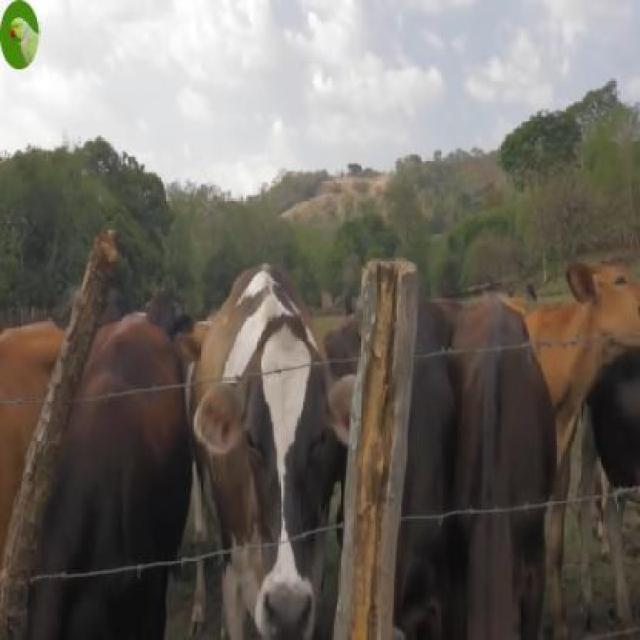Cow: (189, 263, 349, 639)
